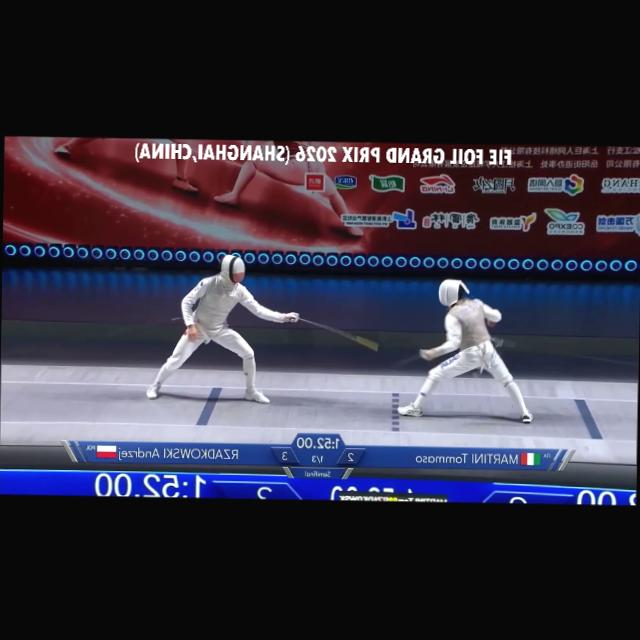blade: (285, 310, 385, 356), (382, 346, 434, 376)
